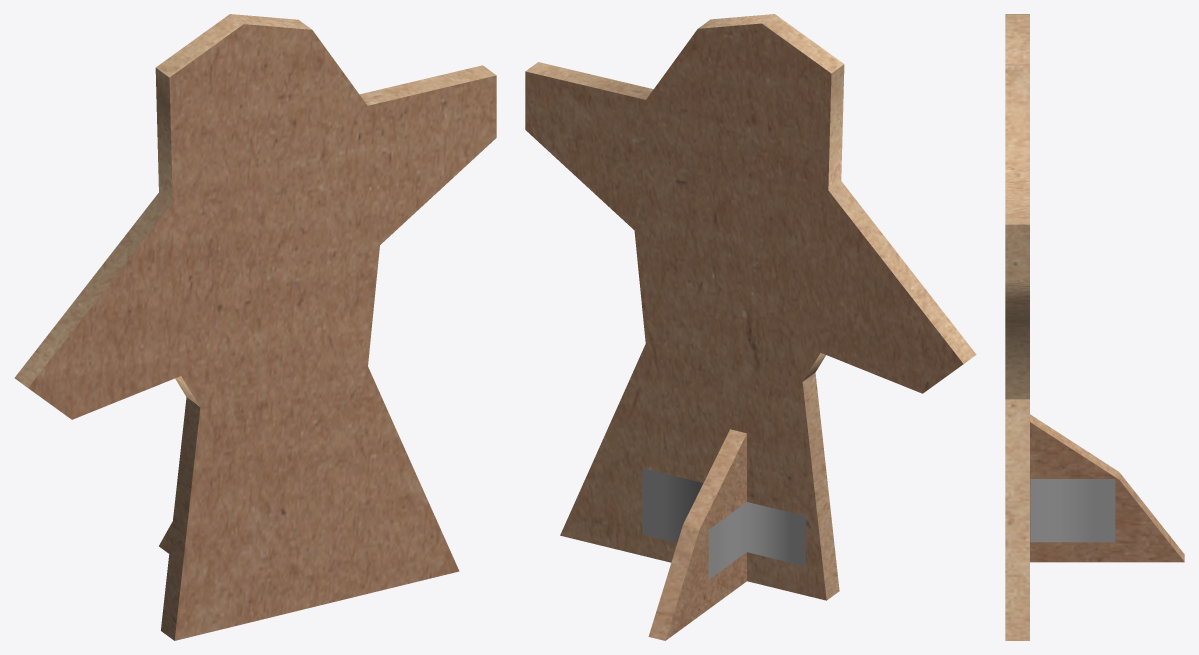
Rendered from Skeleton.fbx.
The picture shows the model from 3 angles, left to right: view 1: azimuth 30°, elevation 25°; view 2: azimuth 150°, elevation 25°; view 3: azimuth 270°, elevation 25°; orthographic projection. The views are drawn at different scales.
Visible parts, largest first — view 1: Skeleton; view 2: Skeleton; view 3: Skeleton.
Boxes of the visible parts, box(x1,y1,x2,y2) form: Skeleton: box(14, 14, 496, 640); Skeleton: box(525, 14, 976, 640); Skeleton: box(1005, 14, 1184, 640).
Size of the model in its own units: 1048 by 1283 by 391.
